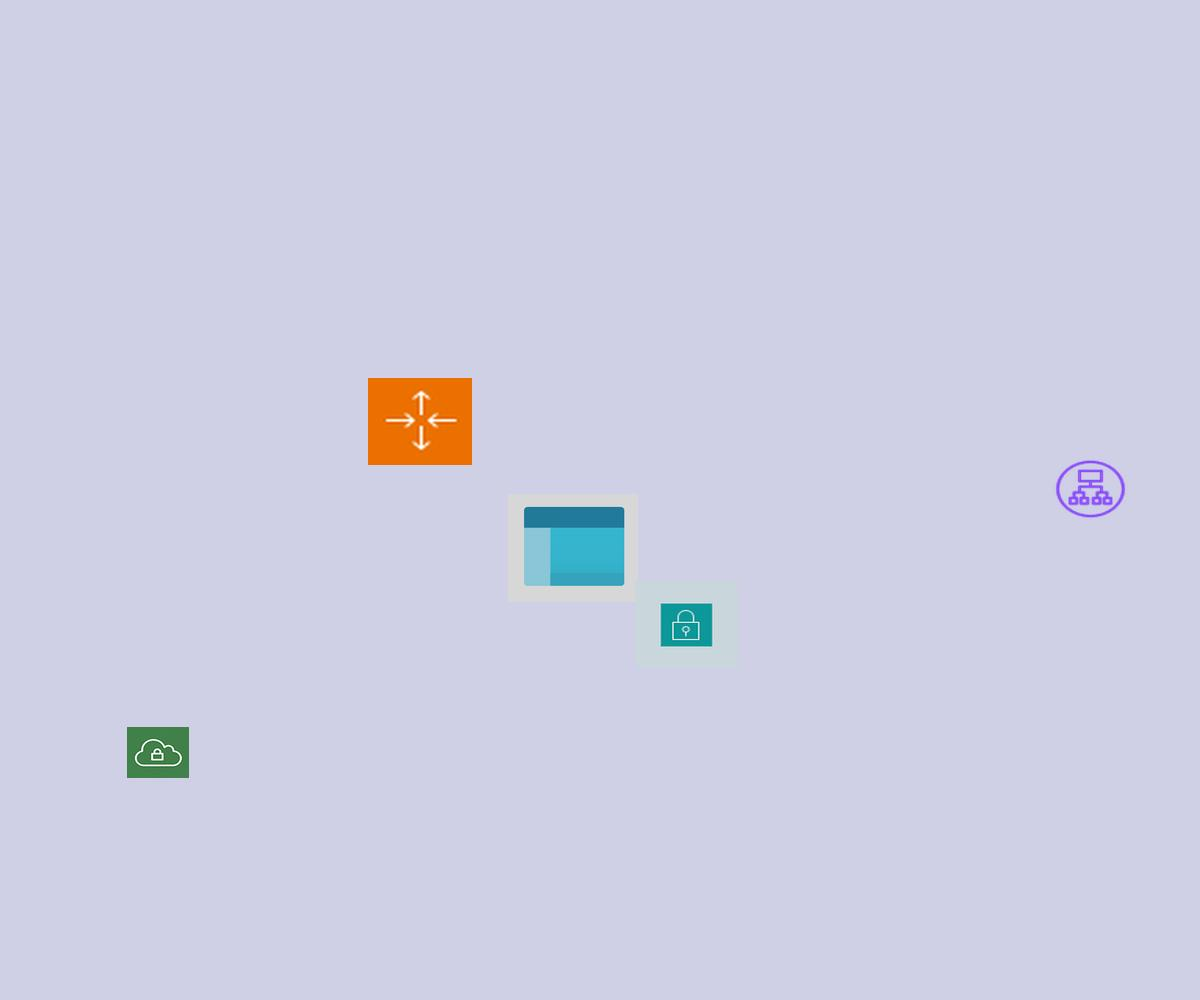AWS-Private-subnet: (635, 582, 738, 668)
AWS-Private_vpc: (127, 727, 189, 778)
AWS-Res_Elastic-Load-Balancing_Application-Load-Balancer: (1053, 458, 1128, 520)
AWS-Scaling-group: (368, 378, 472, 465)
Azure_management-portal: (508, 494, 638, 602)
